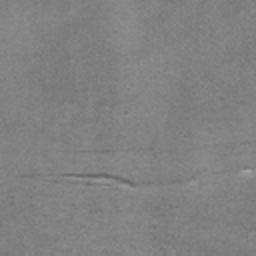Finishing roll printing: (64, 140, 256, 158), (21, 174, 197, 191)
